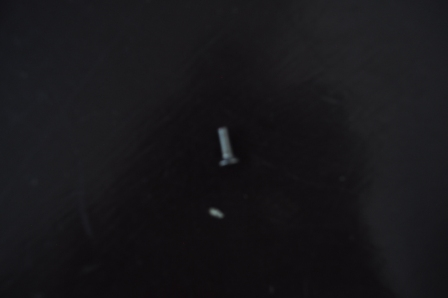NUT (MT): (214, 125, 239, 168)
